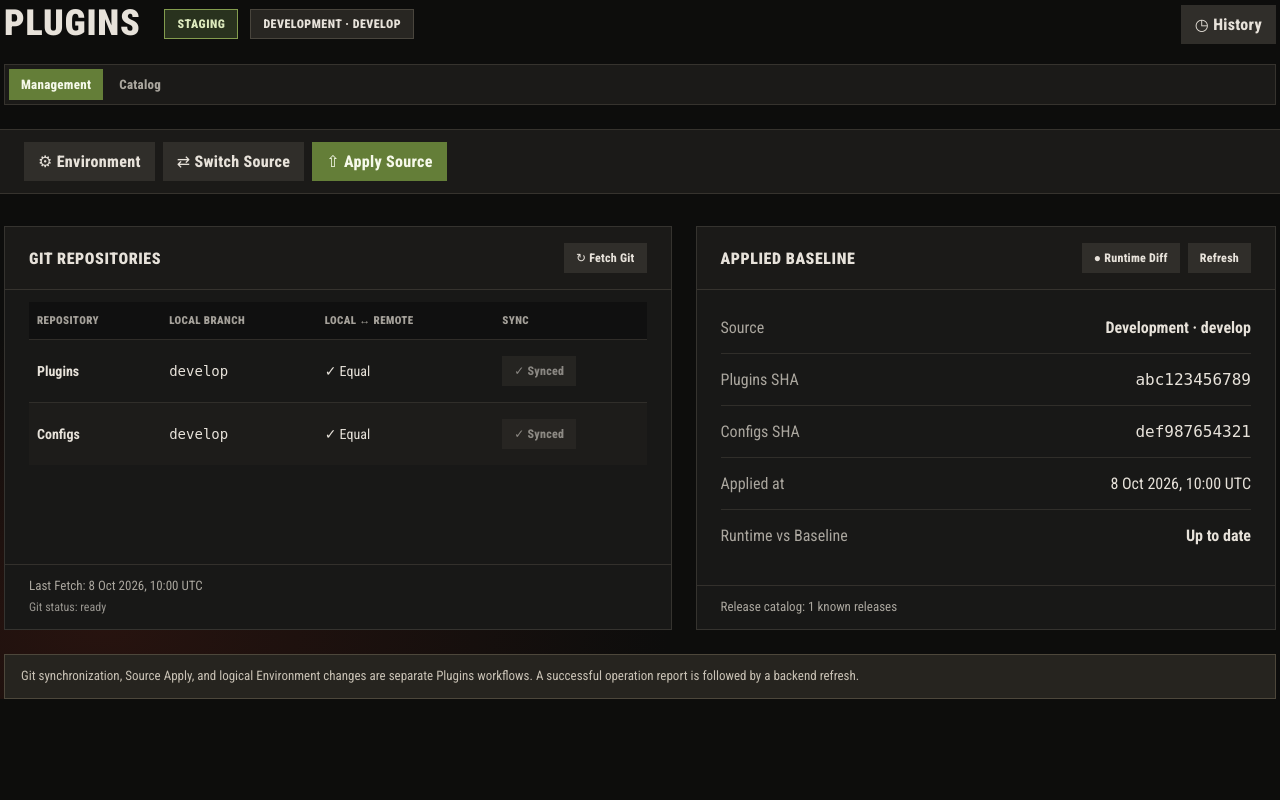
Test: Plugins management workflows › opens the Release tab for incomplete diagnostics without enabling Preview
Step 1. Click the button "⇄ Switch Source" → (233, 162), box top-left (163, 142), bottom-right (304, 181)
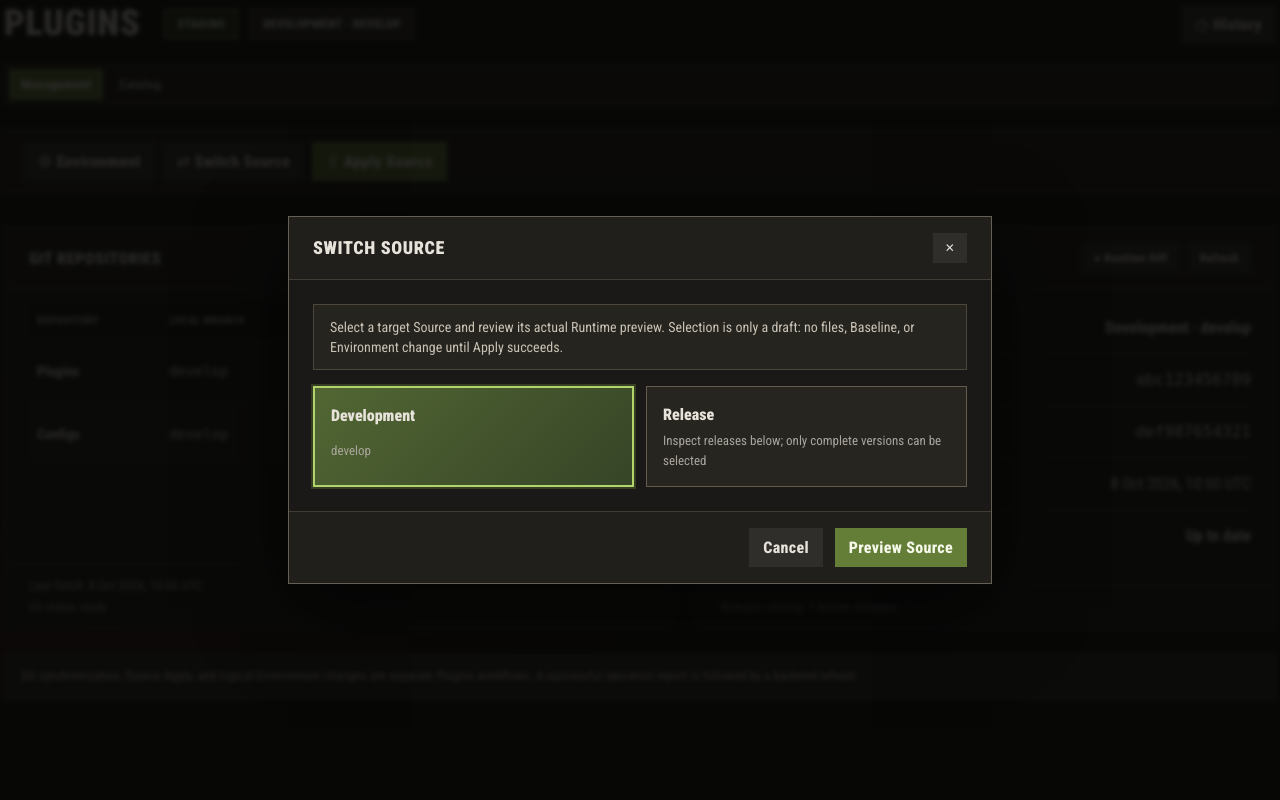
Result: the button "Release" is enabled
Step 2. Click the button "Release" → (806, 437), box top-left (646, 386), bottom-right (967, 487)
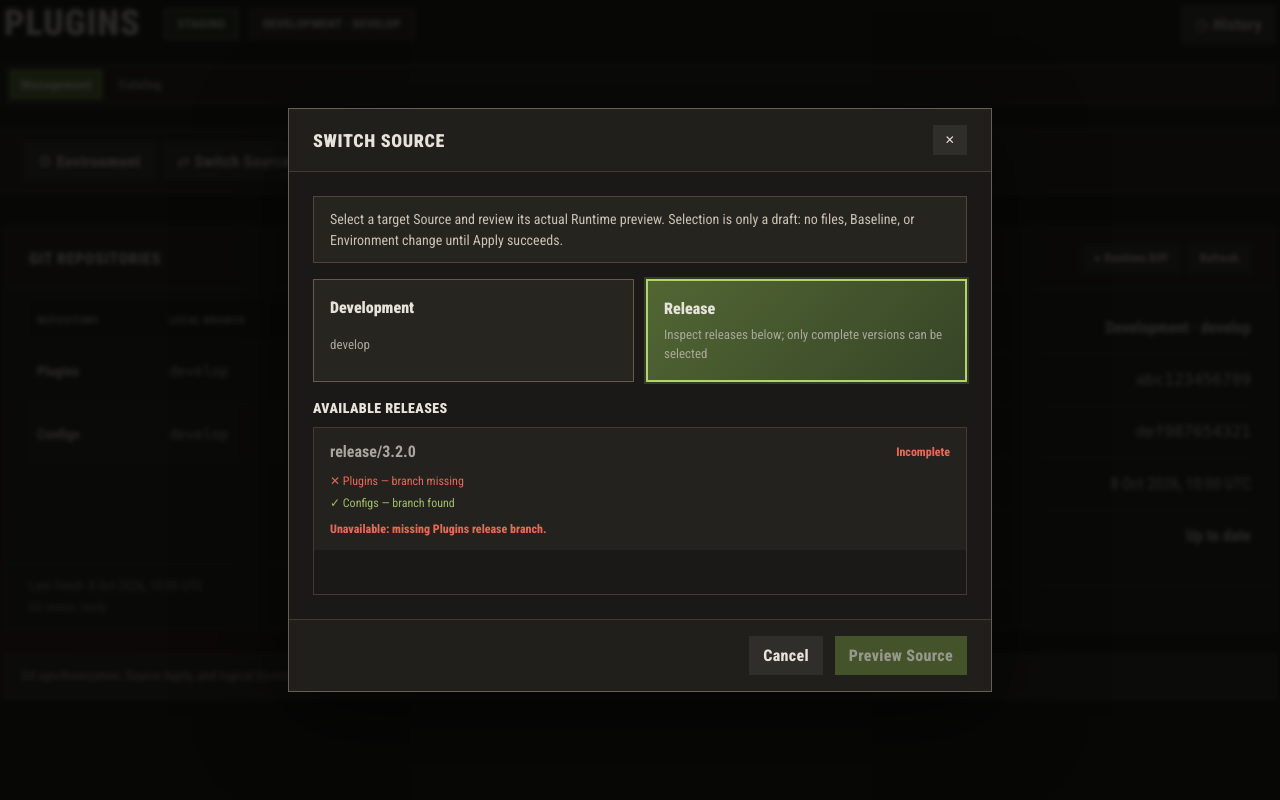
Result: the button "release/3.2.0" is disabled at top-left (314, 428), bottom-right (966, 550)
Result: the text "✕ Plugins — branch missing" is shown at top-left (330, 474), bottom-right (464, 488)
Result: the button "Preview Source" is disabled at top-left (835, 636), bottom-right (967, 675)
